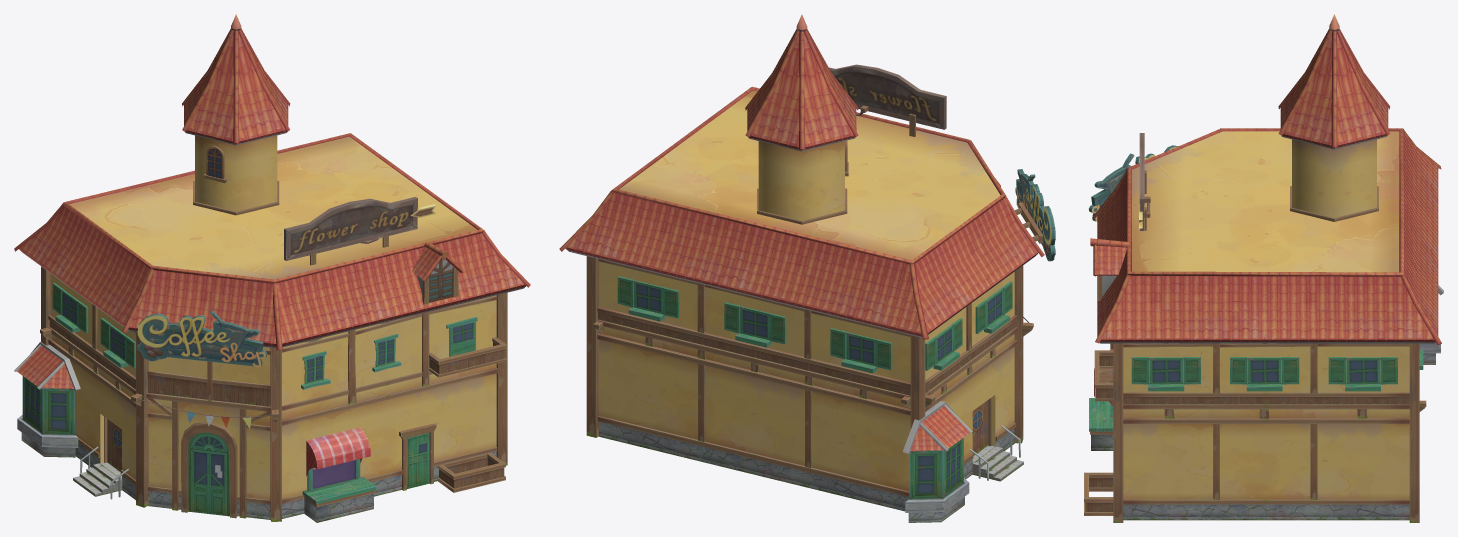
The model's file is Chapter03_Buggy_building02_LOD.fbx.
The picture shows the model from 3 angles, left to right: view 1: azimuth 30°, elevation 25°; view 2: azimuth 150°, elevation 25°; view 3: azimuth 270°, elevation 25°; orthographic projection. The views are drawn at different scales.
Visible parts, largest first — view 1: Chapter03_Buggy_building02_LOD; view 2: Chapter03_Buggy_building02_LOD; view 3: Chapter03_Buggy_building02_LOD.
Part boxes in pixels (bbox=[...]): Chapter03_Buggy_building02_LOD: bbox=[14, 14, 530, 522]; Chapter03_Buggy_building02_LOD: bbox=[559, 14, 1055, 522]; Chapter03_Buggy_building02_LOD: bbox=[1084, 14, 1443, 522].
Size of the model in its own units: 1357 by 1483 by 1132.
Materials: 3 (3 with a texture image).
